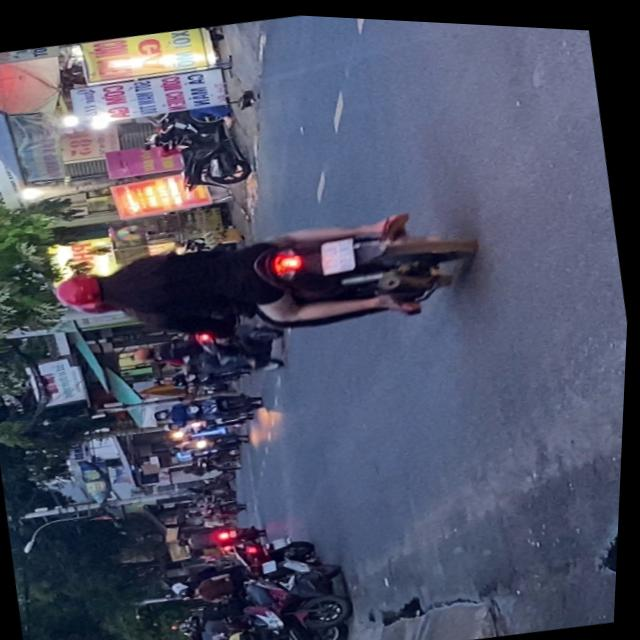helmet: (52, 263, 122, 315)
licenseplate: (42, 176, 490, 378)
nohelmet: (320, 232, 359, 270)
